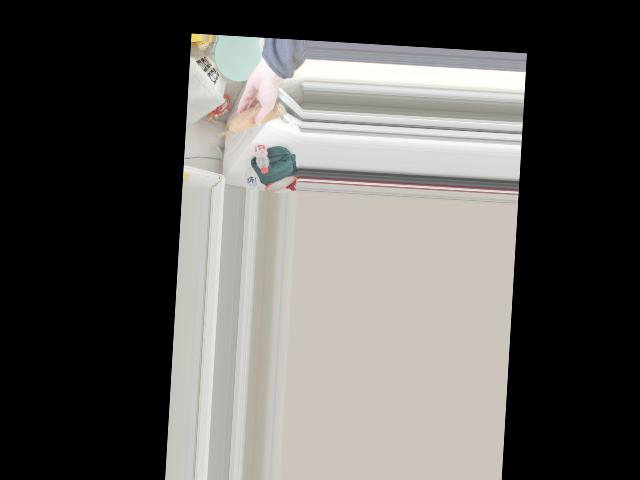sweet_potato: (233, 101, 282, 136)
